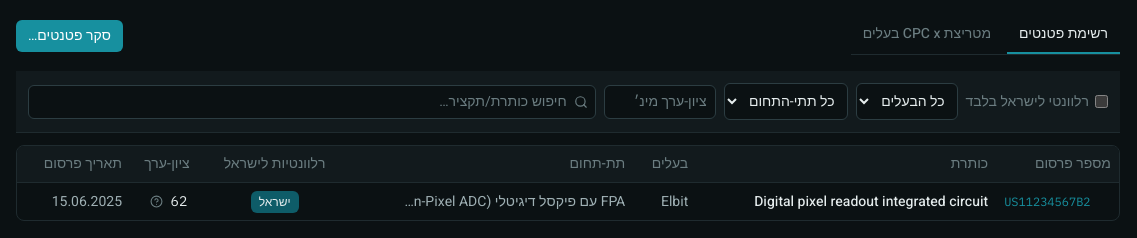
Scenario: PatentsPage › switches to the heatmap tab
Expected: the text "Digital pixel readout integrated circuit" is shown, x1=696 y1=182 x2=996 y2=220
What coordinates should you click on to do the following:
click the tab "מטריצת CPC x בעלים"
I would click on:
 (927, 35)
Its box is x1=851 y1=16 x2=1003 y2=54.
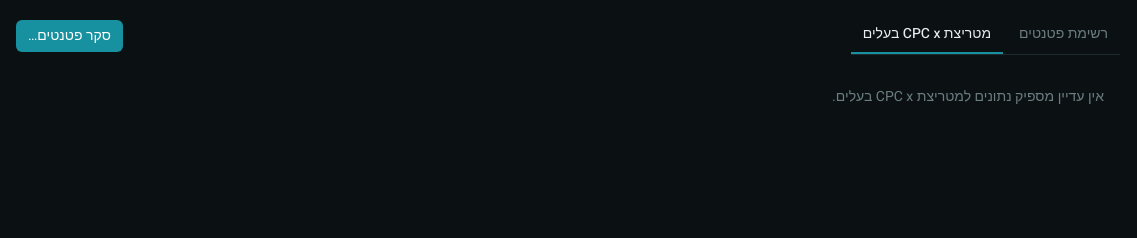
Result: the text "אין עדיין מספיק נתונים למטריצת CPC x בעלים." is shown at x1=832 y1=86 x2=1104 y2=107
